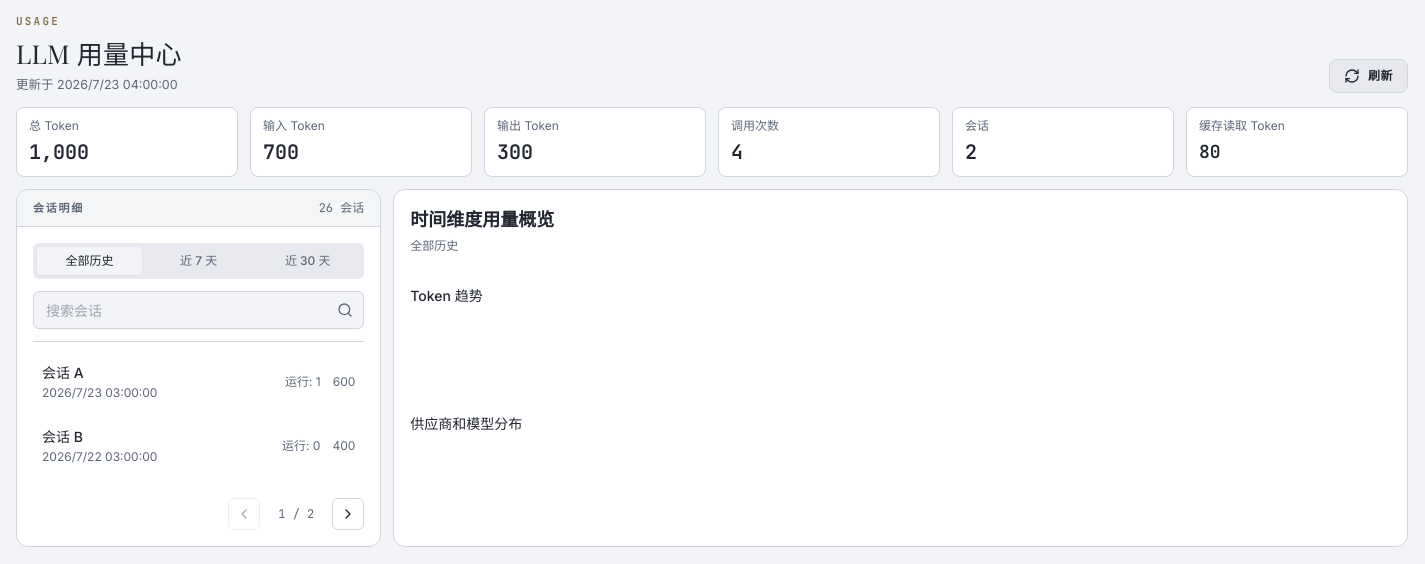
Scenario: Usage › ignores an older filter response that resolves after the latest request
Expected: the text "1,000" is shown, x1=29 y1=139 x2=89 y2=165
Click the button "近 7 天" at x=199, y=261, box x1=146 y1=247 x2=251 y2=275
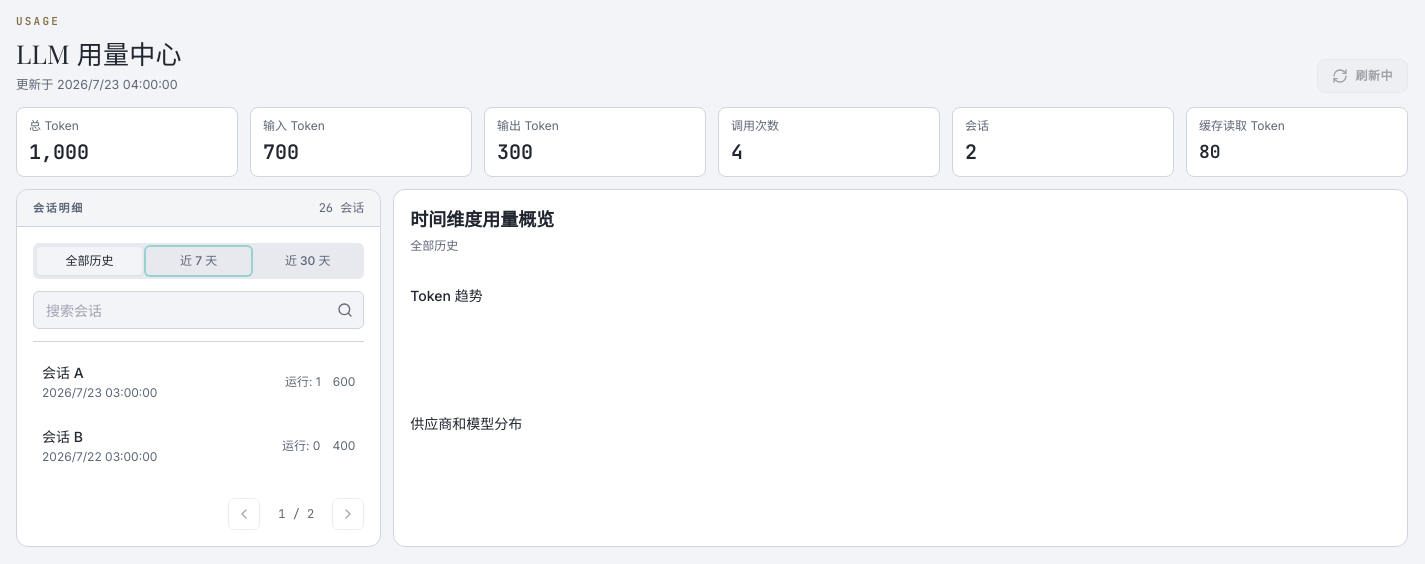
Click the button "近 30 天" at x=308, y=261, box x1=255 y1=247 x2=360 y2=275
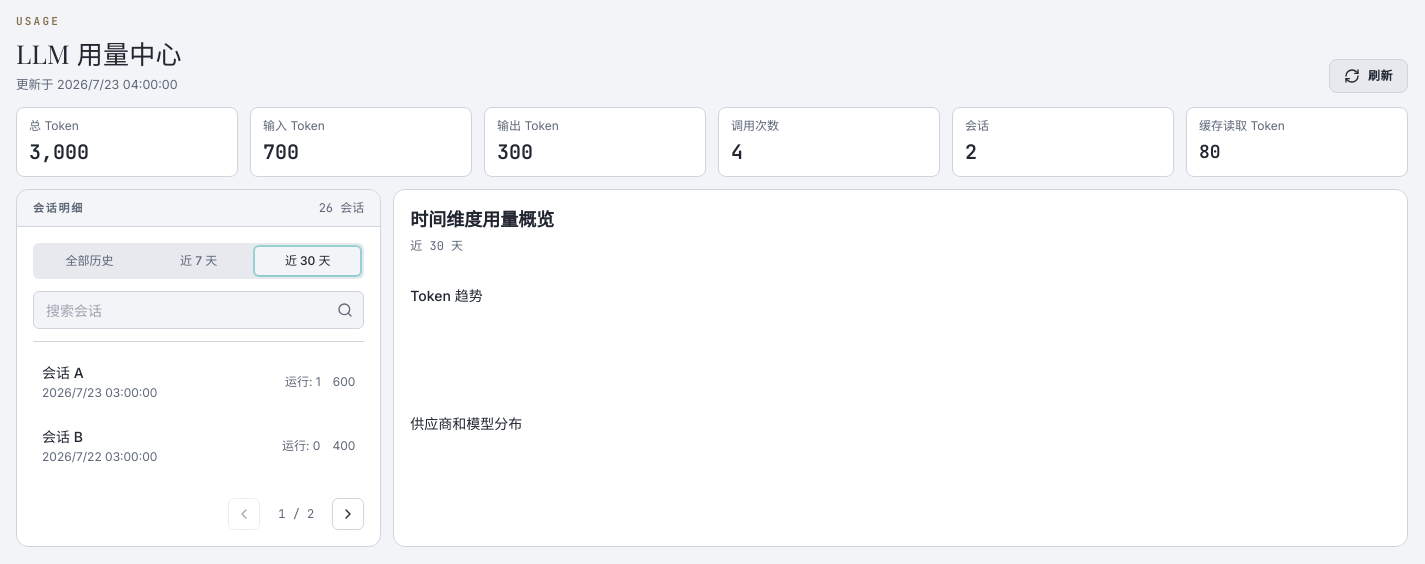
Expected: the text "3,000" is shown, x1=29 y1=139 x2=89 y2=165
